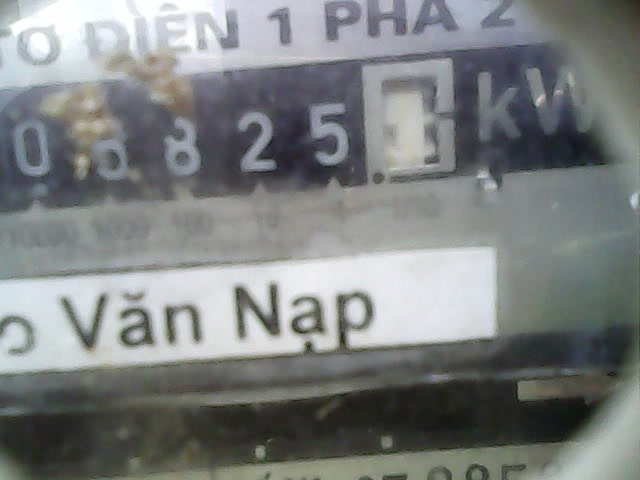phy_plate: (1, 55, 470, 198)
